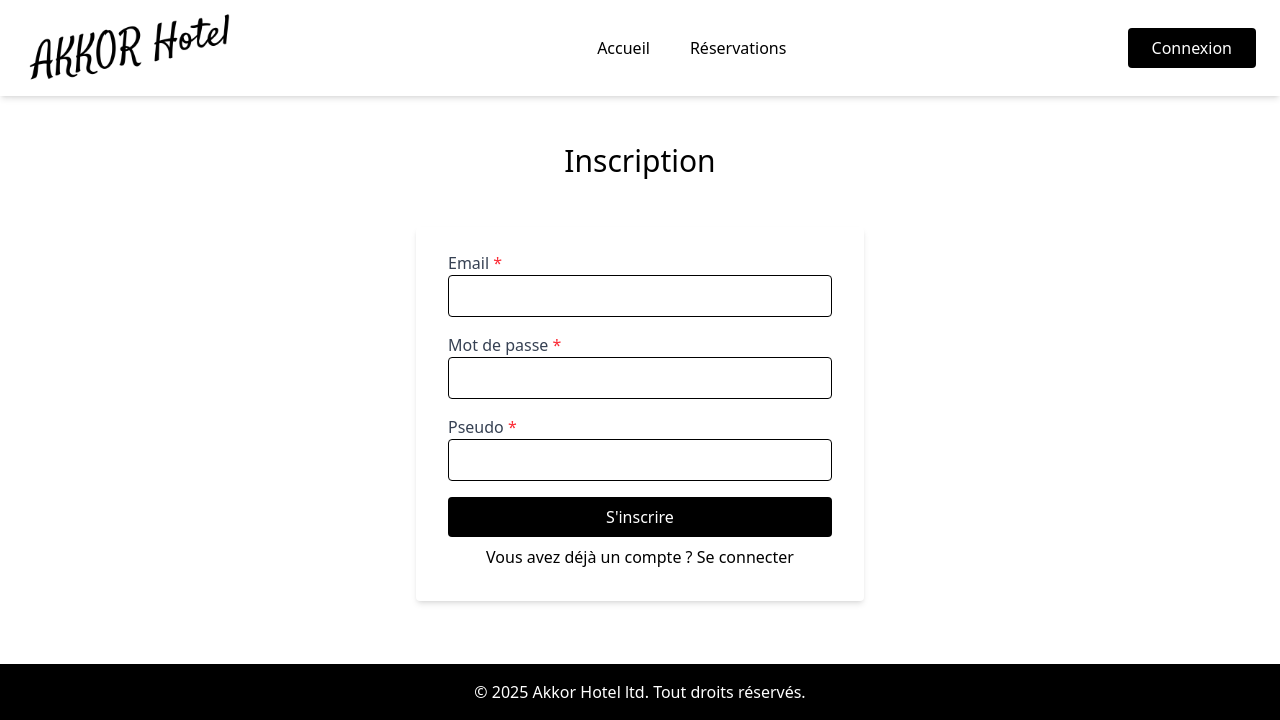
Register Page › handles unexpected errors during registration
The image size is (1280, 720).
Step 1. Type "test@example.com" into the field labelled "Email *" → {"x": 640, "y": 296}, box x1=448 y1=275 x2=832 y2=317
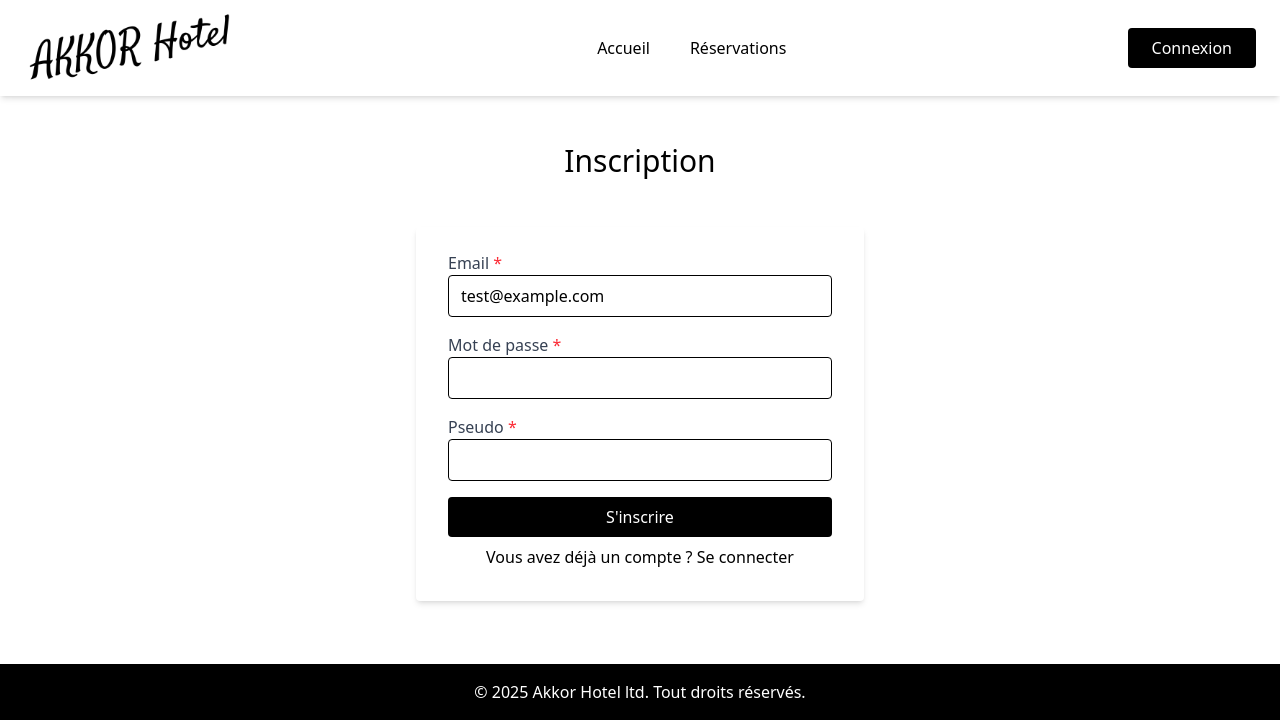
Step 2. Type "password123" into the password field labelled "Mot de passe *" → {"x": 640, "y": 378}, box x1=448 y1=357 x2=832 y2=399
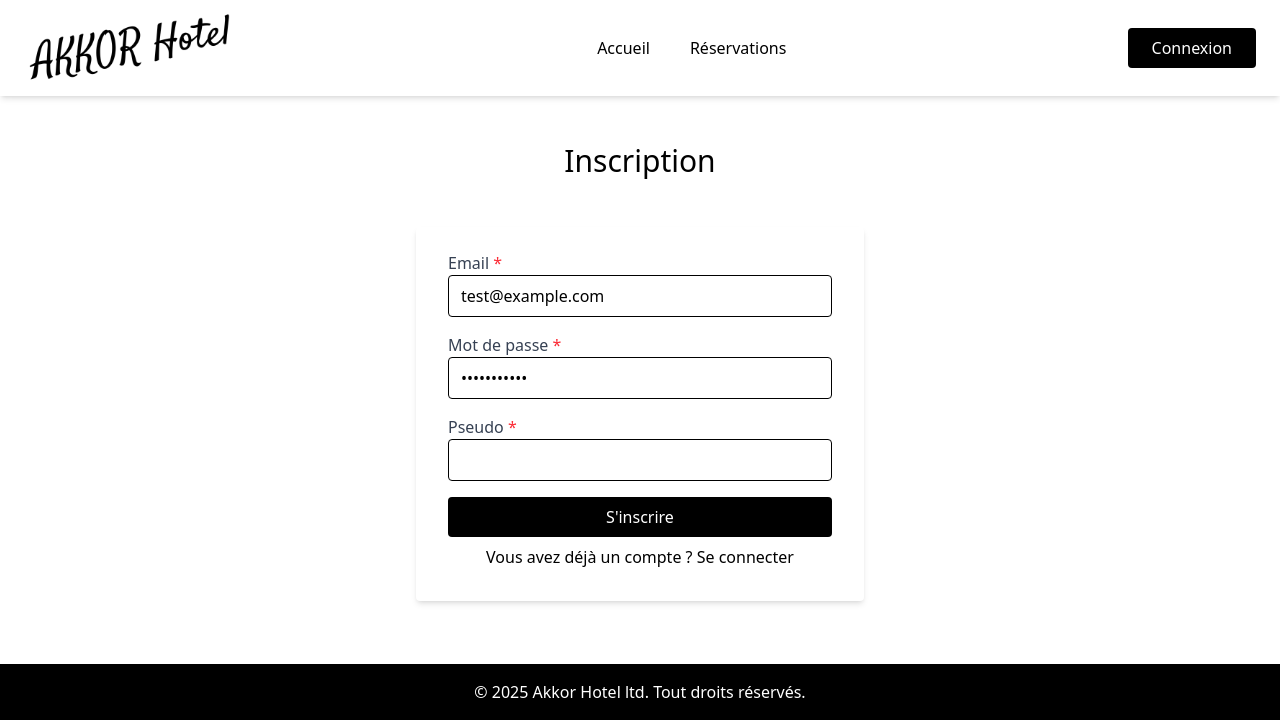
Step 3. Type "testuser" into the field labelled "Pseudo *" → {"x": 640, "y": 460}, box x1=448 y1=439 x2=832 y2=481
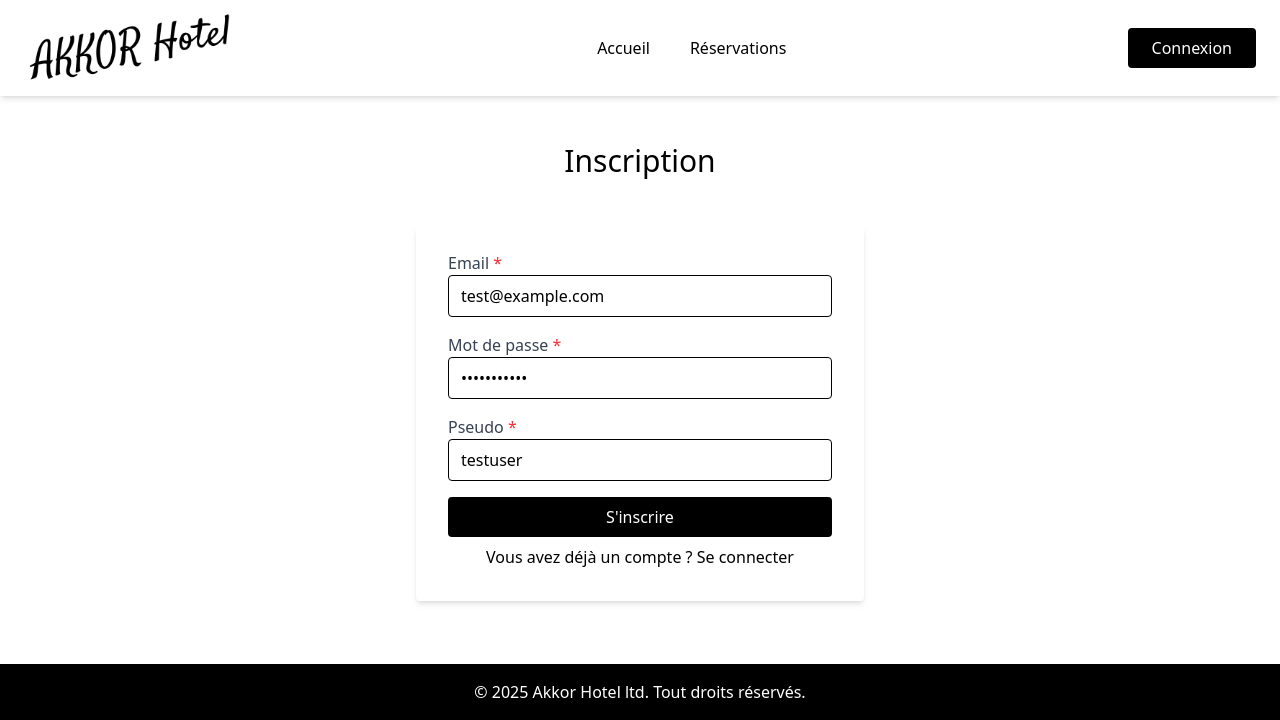
Step 4. Click the button "S'inscrire" → {"x": 640, "y": 517}, box x1=448 y1=497 x2=832 y2=537
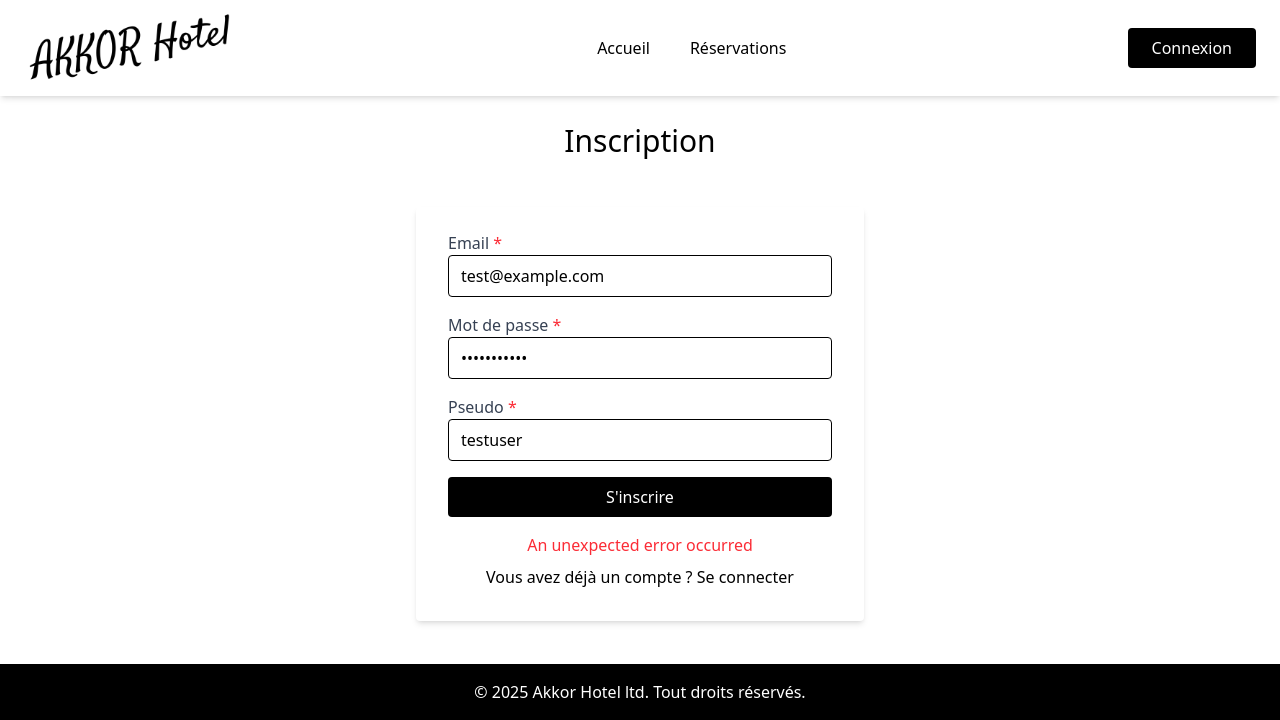
Result: the text "An unexpected error occurred" is shown at x1=527 y1=534 x2=753 y2=556
